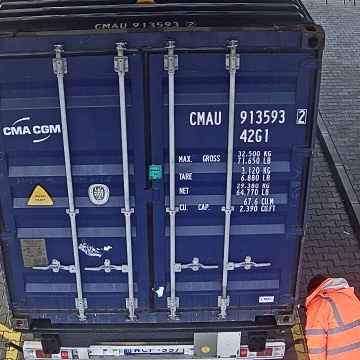serial_id: (190, 109, 305, 125)
